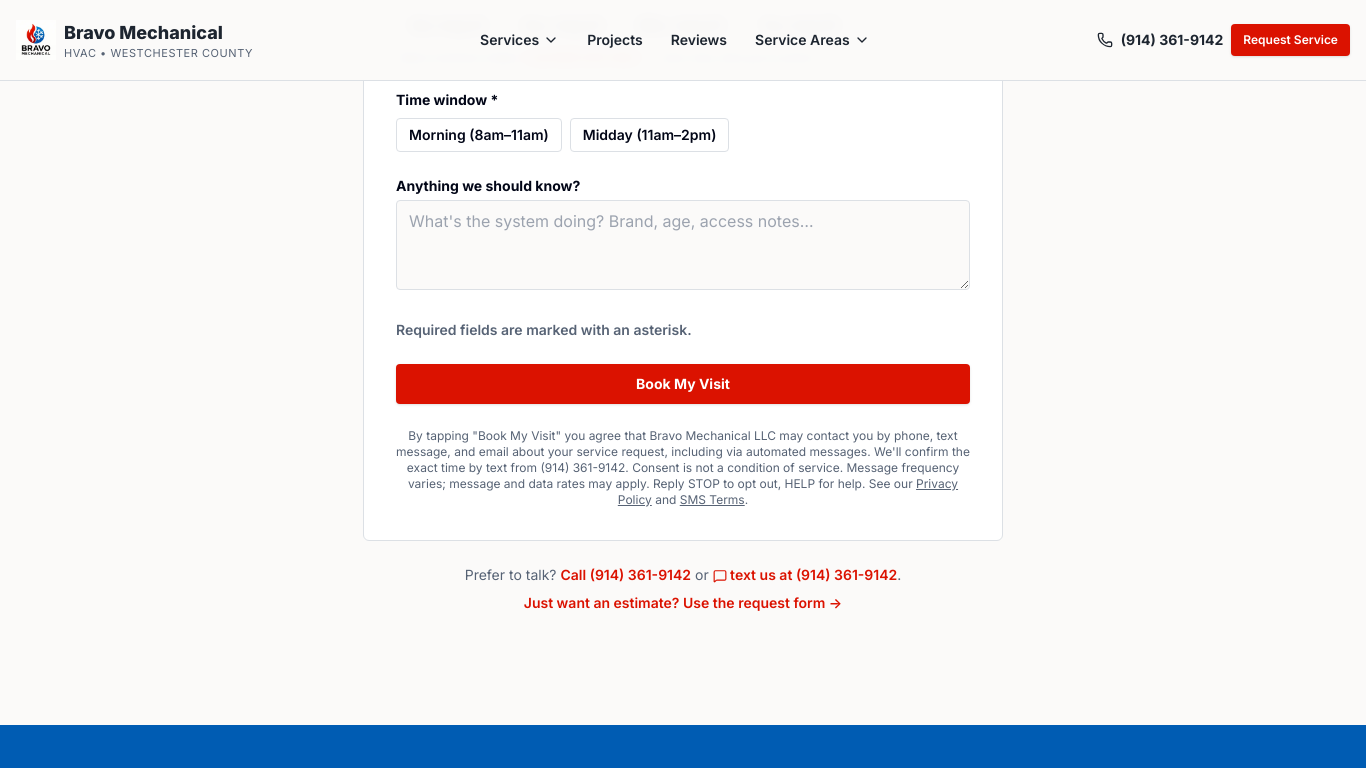
Test: recoverable lead forms › clears an individual booking error when its value becomes valid
(page scrolled)
Click the button "Book My Visit" at [683, 384], box [396, 364, 970, 404]
(page scrolled)
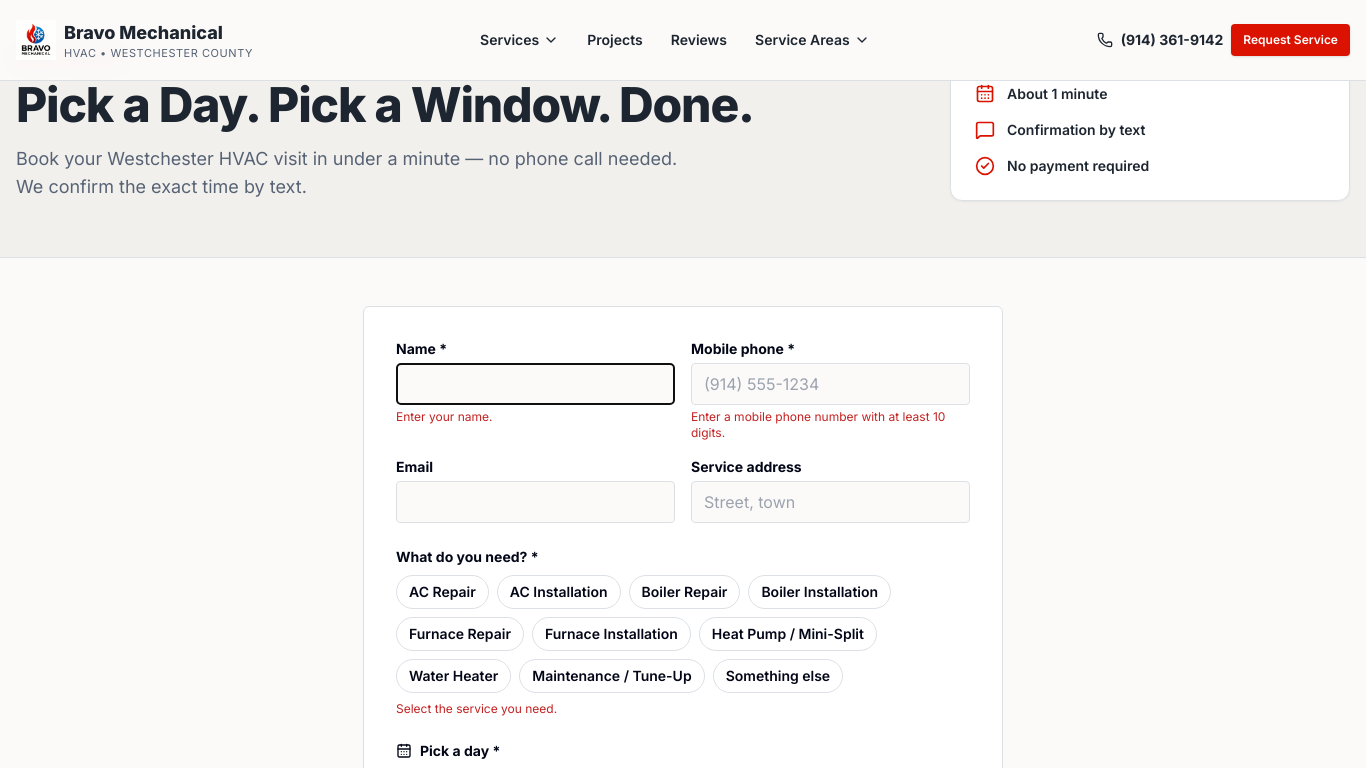
Type "Jordan Lee" into the field labelled "Name *" at [536, 384], box [396, 363, 675, 405]
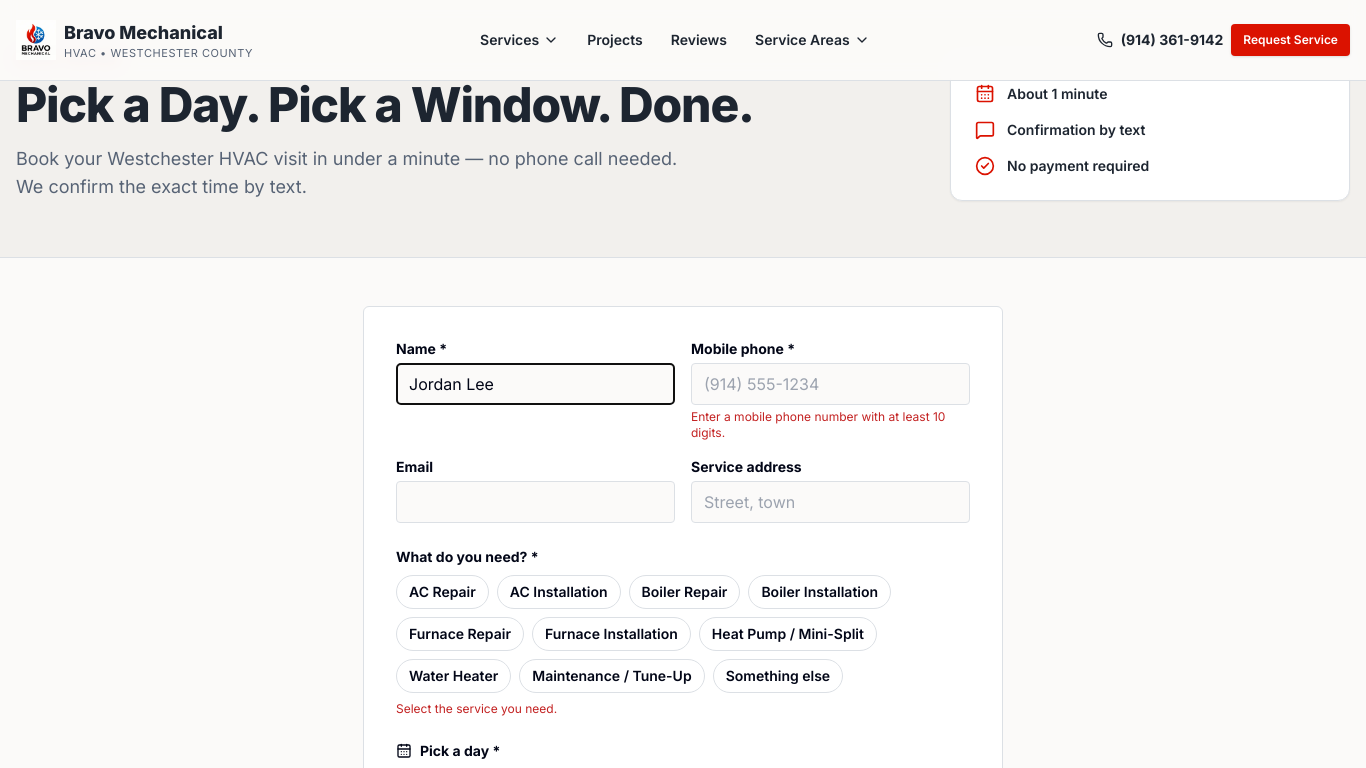
Expected: the text "Enter your name." is gone
